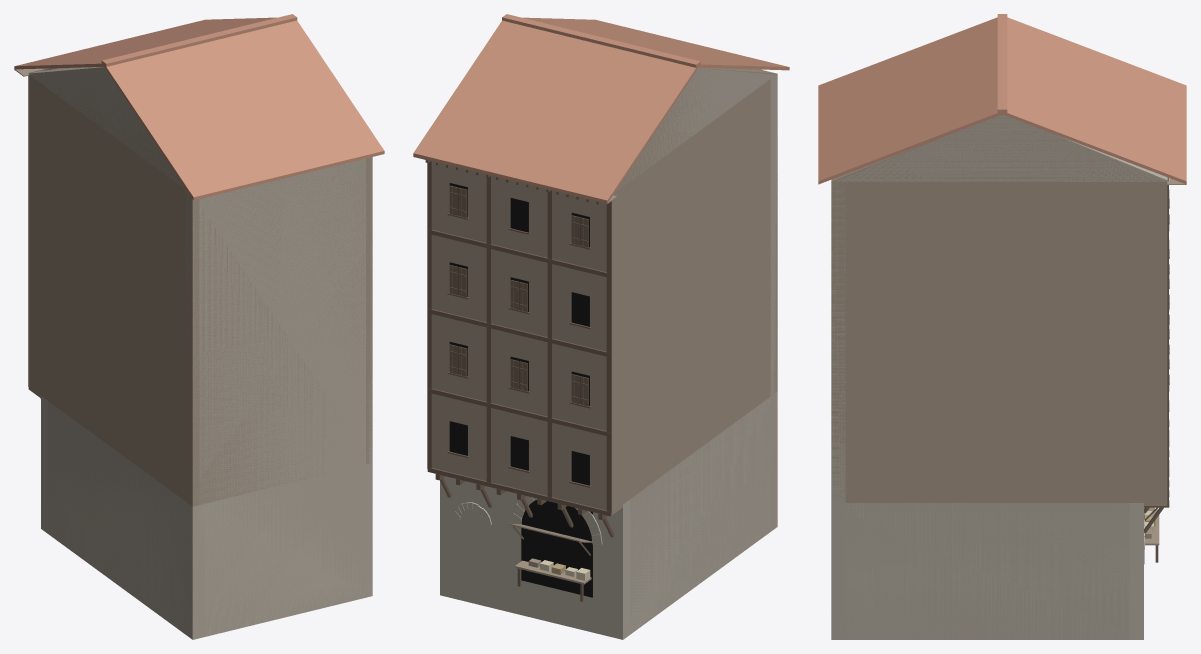
Rendered from casa-82-4-legno.glb.
3 renders of one model, left to right at view 1: azimuth 30°, elevation 25°; view 2: azimuth 150°, elevation 25°; view 3: azimuth 270°, elevation 25°, orthographic. The views are drawn at different scales.
Visible parts, largest first — view 1: vicino, lontano; view 2: vicino, lontano, aperta; view 3: vicino, lontano, aperta.
Boxes of the visible parts, box(x1,y1,x2,y2) form: vicino: box(14, 14, 384, 639); lontano: box(18, 64, 383, 639); vicino: box(413, 14, 789, 639); lontano: box(413, 65, 789, 639); aperta: box(509, 523, 592, 601); vicino: box(818, 14, 1186, 639); lontano: box(818, 113, 1186, 639); aperta: box(1144, 507, 1159, 562).
Size of the model in its own units: 8.7 by 22.57 by 14.15.
